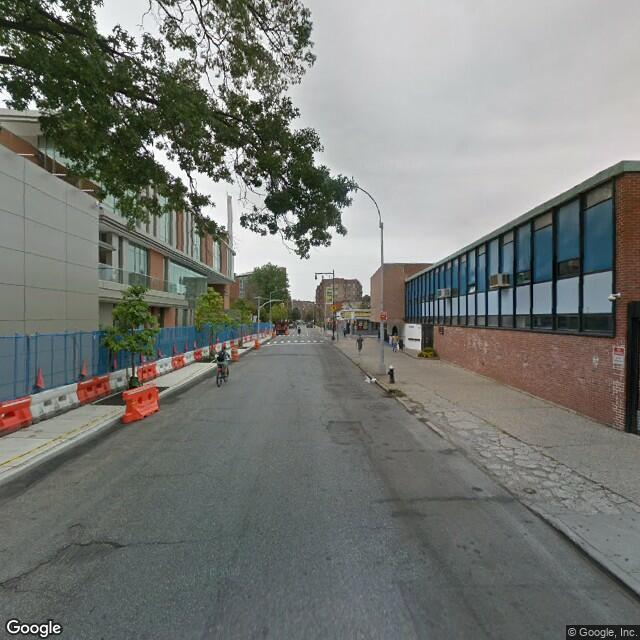litter: (368, 374, 379, 386), (365, 376, 368, 382), (365, 377, 368, 383)
